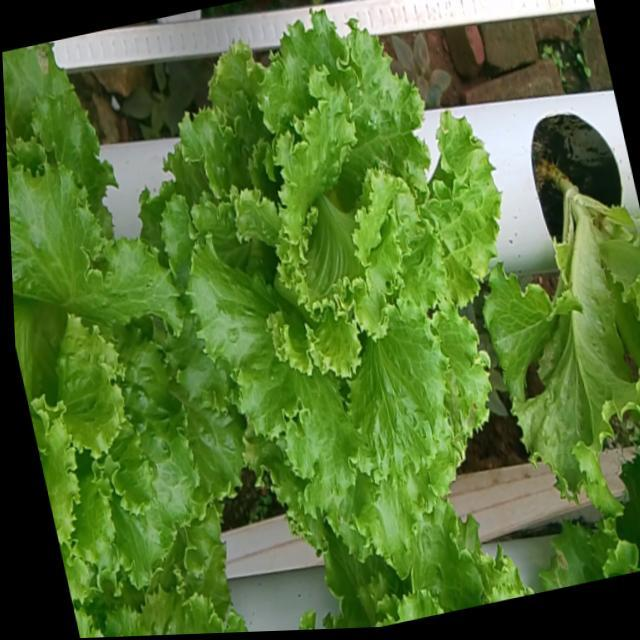Mature: (150, 2, 492, 549), (7, 143, 237, 578)
